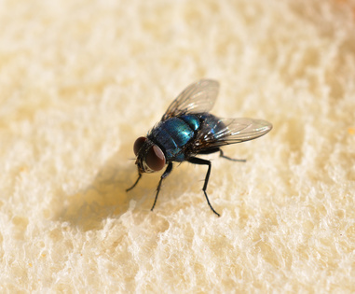green bottles flies: (117, 72, 278, 229)
